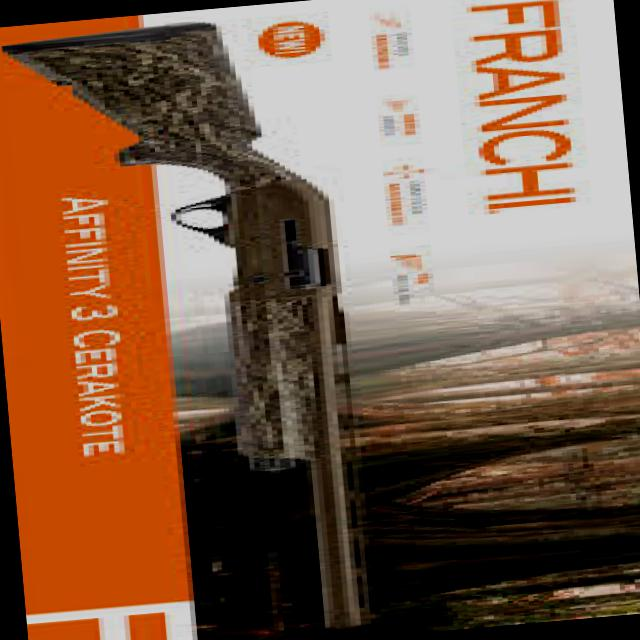long weapon: (0, 10, 414, 640)
